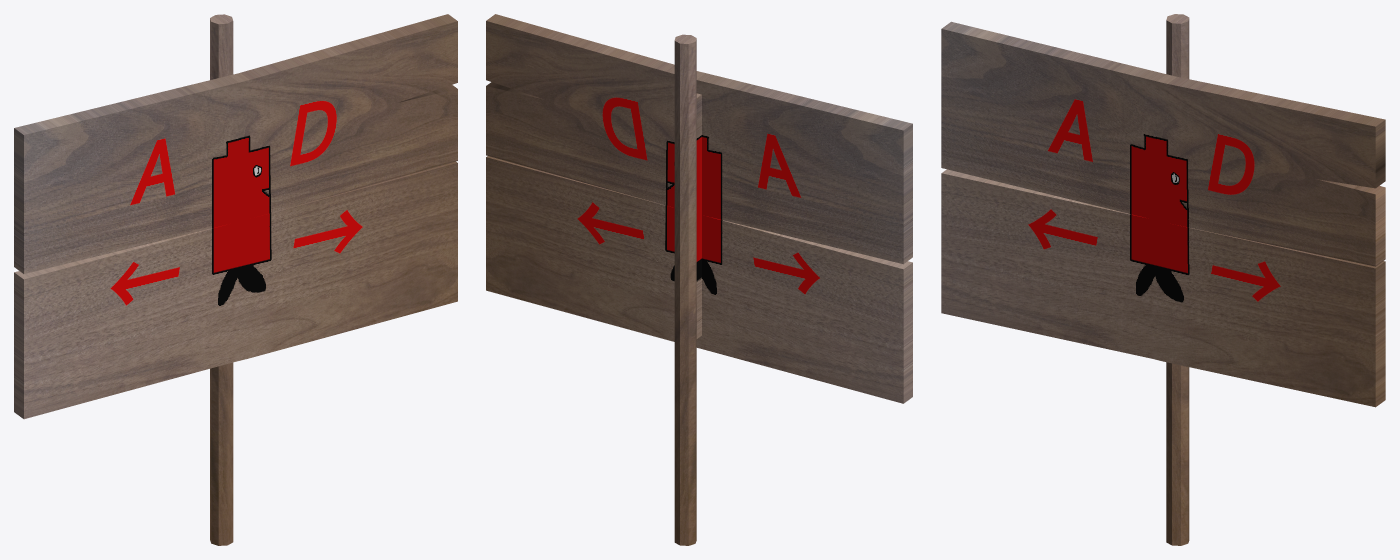
The model's file is Sign.fbx.
The picture shows the model from 3 angles, left to right: view 1: azimuth 30°, elevation 25°; view 2: azimuth 150°, elevation 25°; view 3: azimuth 330°, elevation 25°; orthographic projection. The views are drawn at different scales.
Visible parts, largest first — view 1: pCylinder4; view 2: pCylinder4; view 3: pCylinder4.
Part boxes in pixels (x1=…): pCylinder4: x1=14, y1=14, x2=457, y2=545; pCylinder4: x1=486, y1=14, x2=912, y2=545; pCylinder4: x1=941, y1=14, x2=1385, y2=545.
Size of the model in its own units: 6.7 by 7.69 by 0.6749.
